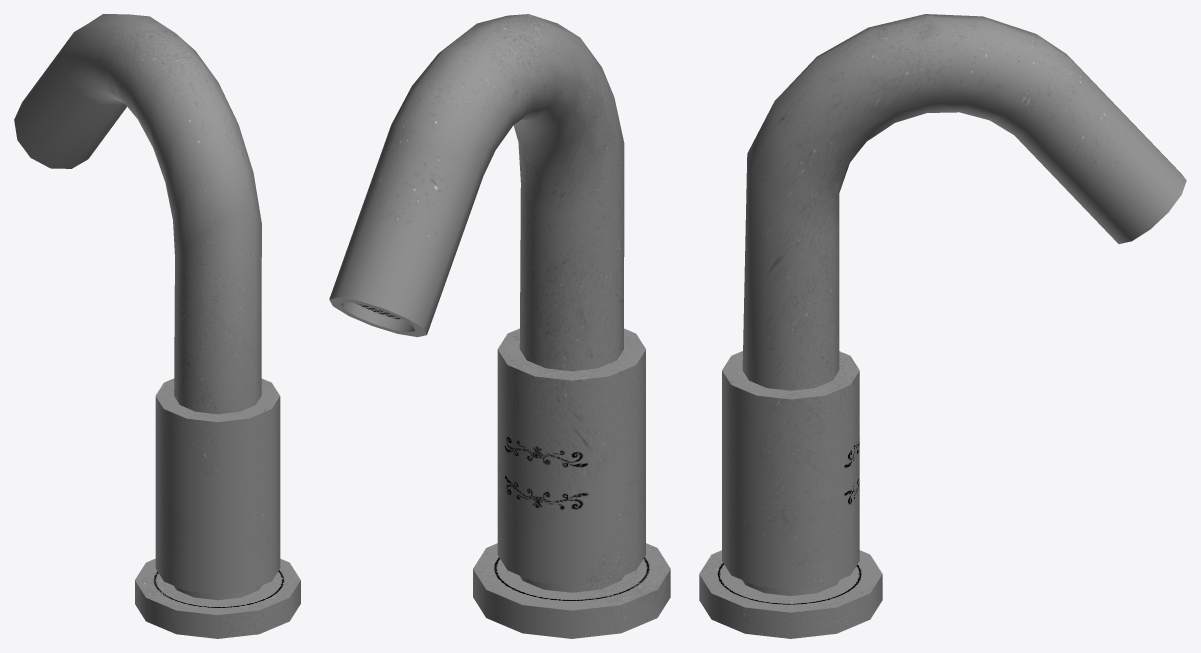
The model's file is tap.fbx.
3 views of the same model, side by side, from view 1: azimuth 30°, elevation 25°; view 2: azimuth 150°, elevation 25°; view 3: azimuth 270°, elevation 25° (orthographic). The views are drawn at different scales.
Visible parts, largest first — view 1: tap; view 2: tap; view 3: tap.
Boxes of the visible parts, x1,y1,x2,y2 form: tap: (14,14,300,638); tap: (329,14,670,638); tap: (699,14,1186,638).
Size of the model in its own units: 5.32 by 18.65 by 14.15.
